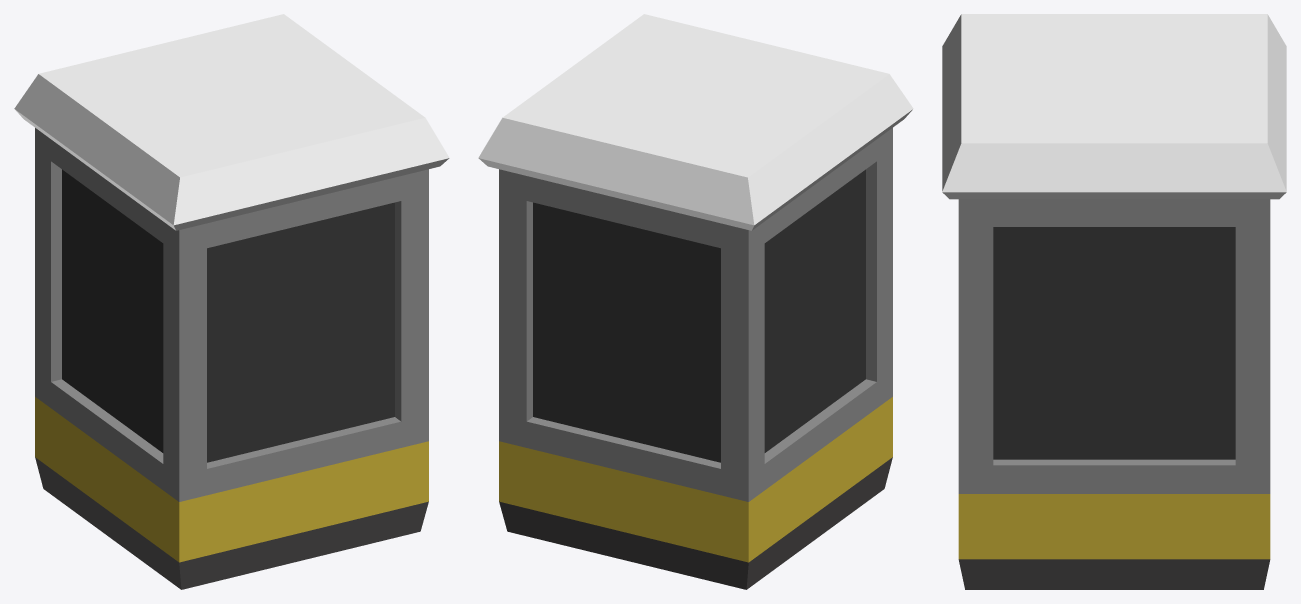
File: Parking Booth_1.fbx
3 views of the same model, side by side, from view 1: azimuth 30°, elevation 25°; view 2: azimuth 150°, elevation 25°; view 3: azimuth 270°, elevation 25° (orthographic). The views are drawn at different scales.
Parts seen in each view (by area): view 1: Parking Booth_1; view 2: Parking Booth_1; view 3: Parking Booth_1.
Boxes of the visible parts, x1,y1,x2,y2 form: Parking Booth_1: [14, 14, 449, 589]; Parking Booth_1: [478, 14, 913, 589]; Parking Booth_1: [942, 14, 1286, 589].
Size of the model in its own units: 279 by 400 by 279.
